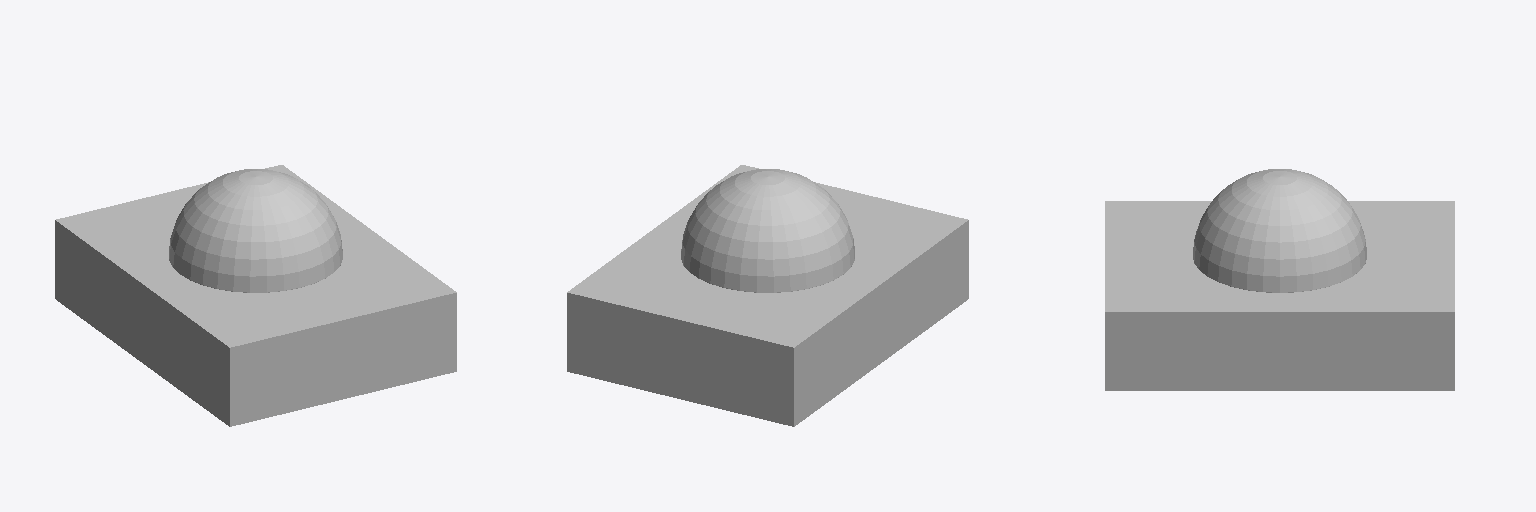
The model's file is surau.obj.
3 views of the same model, side by side, from view 1: azimuth 30°, elevation 25°; view 2: azimuth 150°, elevation 25°; view 3: azimuth 270°, elevation 25° (orthographic).
Visible parts, largest first — view 1: Cube, Sphere; view 2: Cube, Sphere; view 3: Cube, Sphere.
Part boxes in pixels (x1,y1,x2,y2): Cube: (55,165,456,426); Sphere: (169,169,342,292); Cube: (567,165,968,426); Sphere: (681,169,854,292); Cube: (1105,201,1454,390); Sphere: (1193,169,1366,292).
Bounding box in the file's own units: 6 × 4.01 × 8.